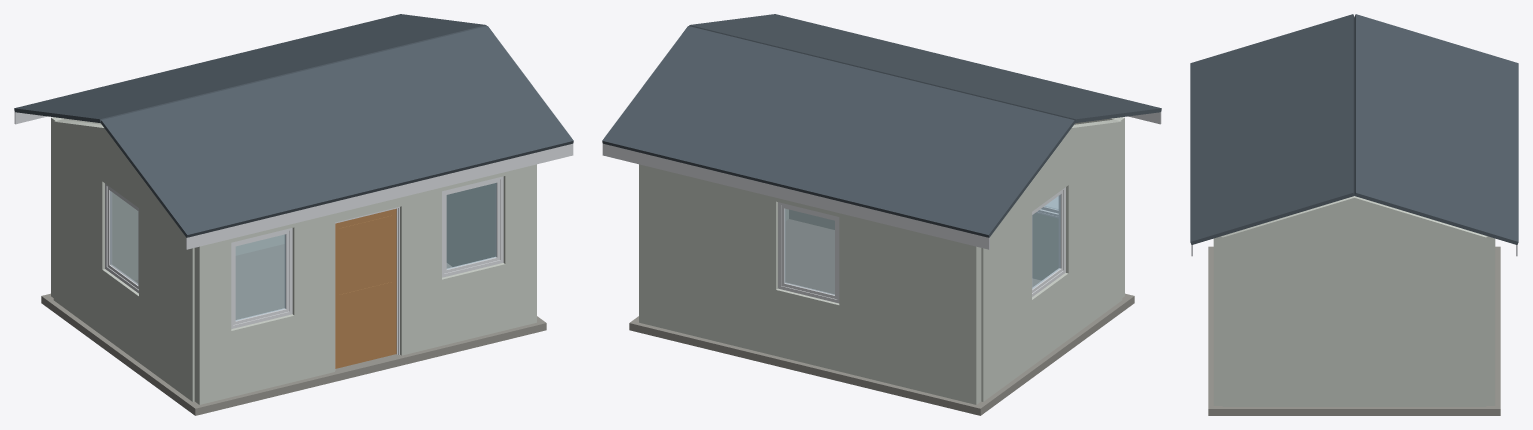
Rendered from cabin_wood_frame.mid.glb.
3 views of the same model, side by side, from view 1: azimuth 30°, elevation 25°; view 2: azimuth 150°, elevation 25°; view 3: azimuth 270°, elevation 25° (orthographic). The views are drawn at different scales.
Parts seen in each view (by area): view 1: cabin_wood_frame, slab_door_front_2, sash_window_front_1, sash_window_front_3, sash_window_right_1; view 2: cabin_wood_frame, sash_window_back_1, sash_window_right_1; view 3: cabin_wood_frame.
Part boxes in pixels (<box>): cabin_wood_frame: <box>14,14,573,415</box>; slab_door_front_2: <box>335,208,396,368</box>; sash_window_front_1: <box>233,231,289,324</box>; sash_window_front_3: <box>444,179,499,273</box>; sash_window_right_1: <box>107,187,138,289</box>; cabin_wood_frame: <box>602,14,1161,415</box>; sash_window_back_1: <box>781,205,837,299</box>; sash_window_right_1: <box>1032,190,1063,292</box>; cabin_wood_frame: <box>1190,14,1518,415</box>.
Bounding box in the file's own units: 5.59 × 3.37 × 4.34.
